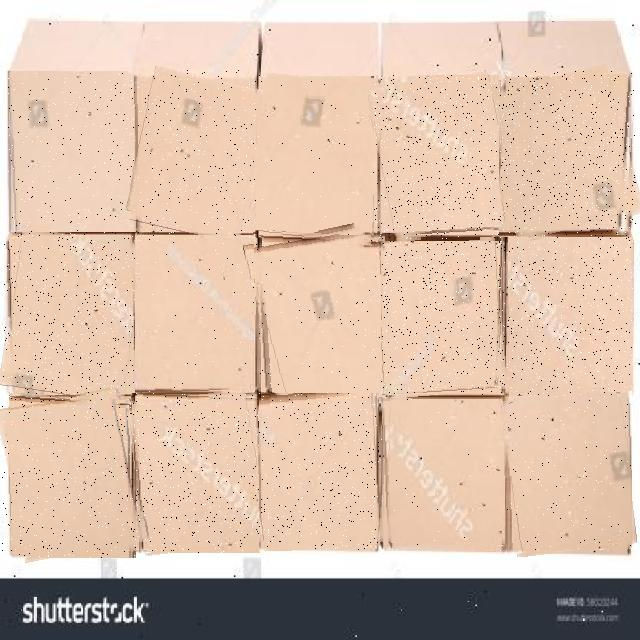BoxFace: (499, 71, 636, 237), (128, 70, 263, 238), (3, 232, 137, 400), (2, 392, 136, 558), (253, 230, 385, 398), (374, 76, 509, 240), (502, 391, 632, 554), (131, 393, 260, 553), (256, 76, 381, 238), (507, 237, 633, 397), (9, 71, 134, 232), (381, 241, 505, 396), (136, 235, 256, 393), (380, 399, 505, 550), (259, 393, 379, 550)
